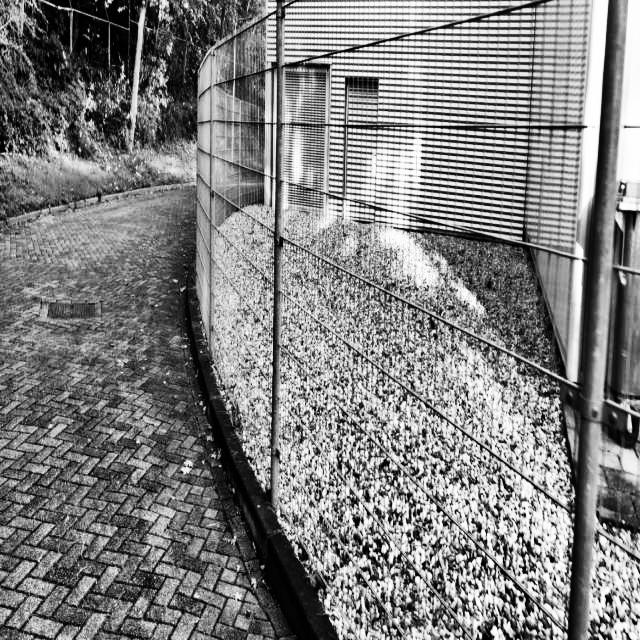fences: (204, 13, 635, 640)
